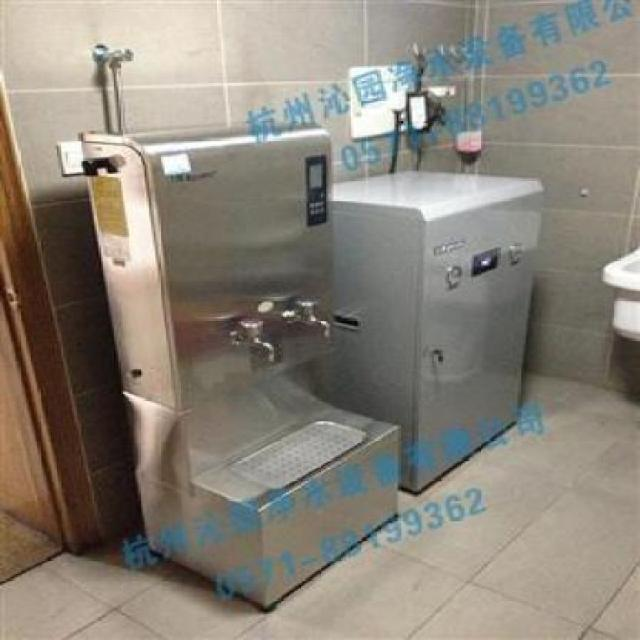cooler: (77, 122, 410, 618)
